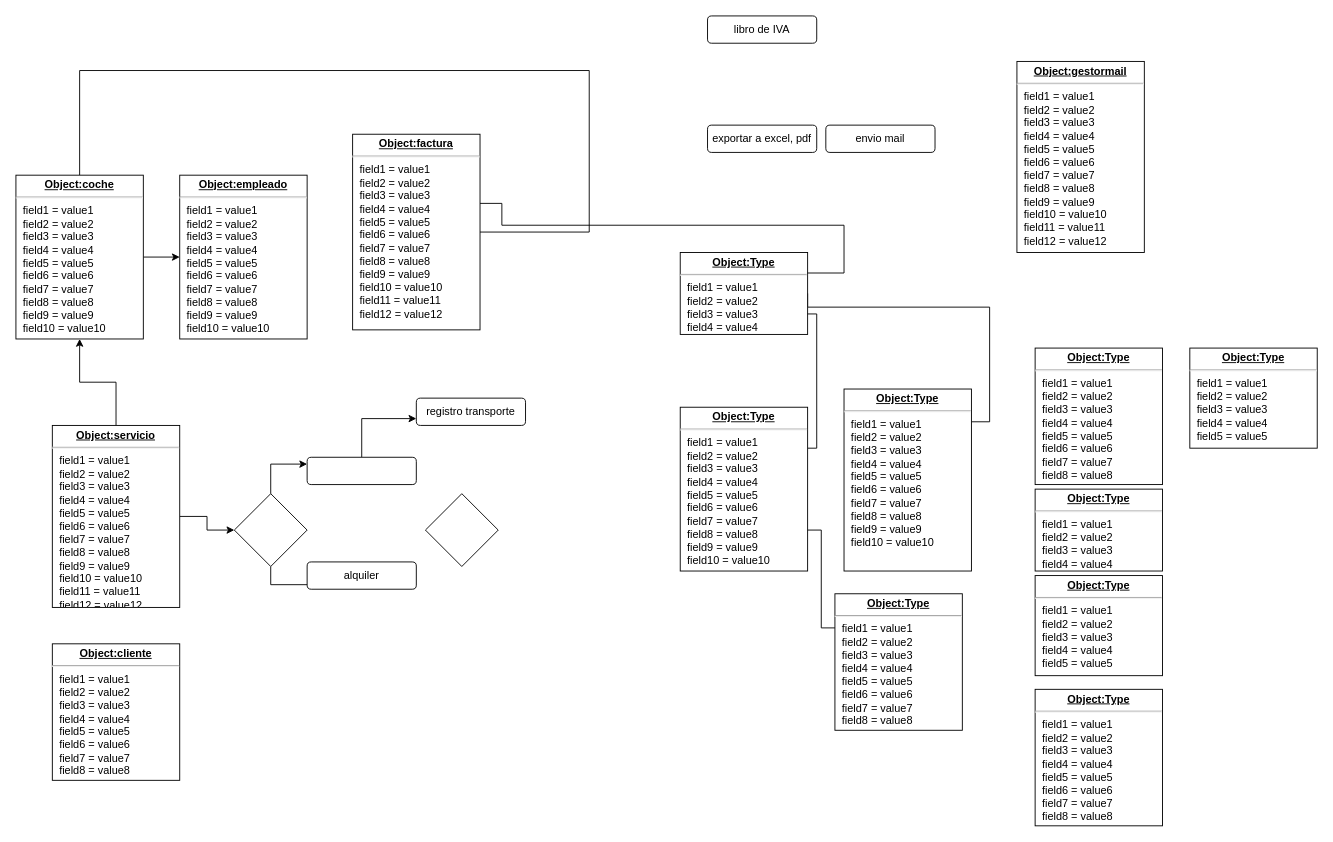
This 1333x842 diagram has some shape labels left out. Each missing label, with the centre of its shape:
"emision" belongs at point 461,529.
"tipo" belongs at point 270,529.
"vtc" belongs at point 361,470.
